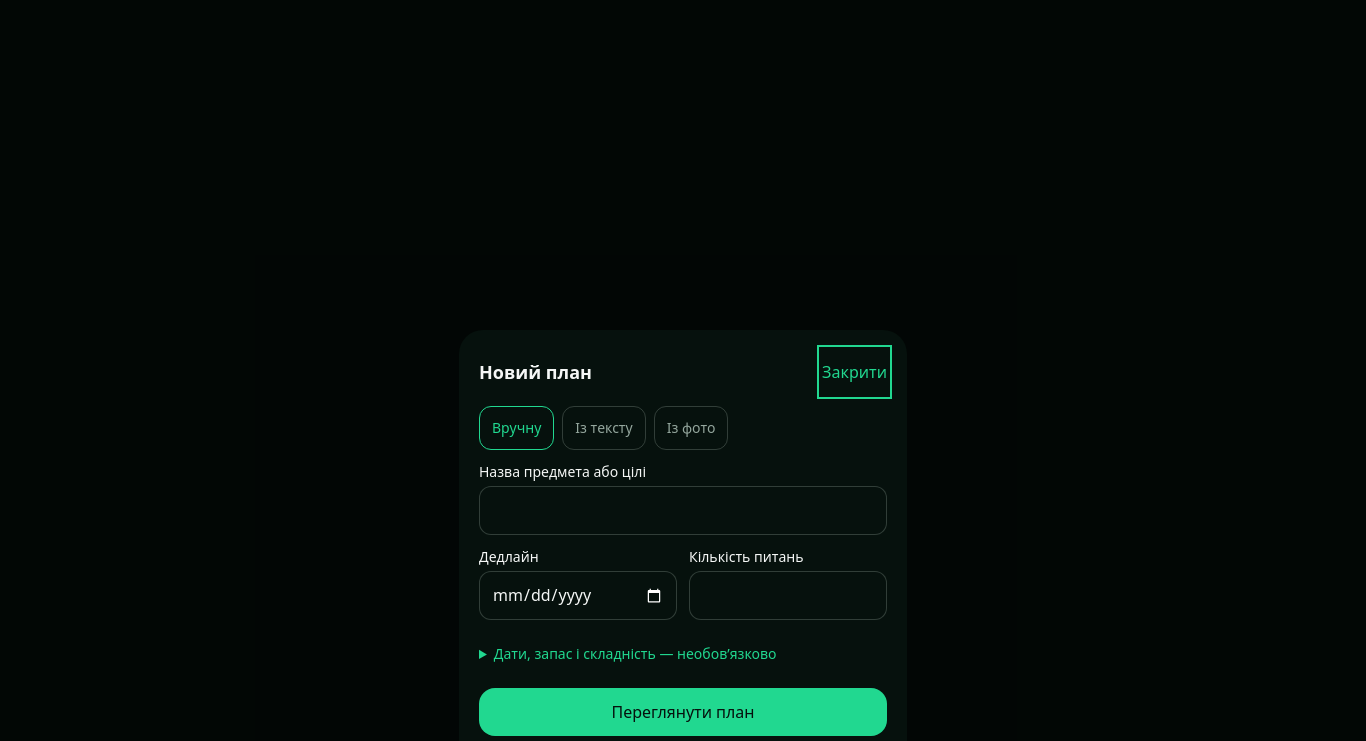
Test: requires review of ambiguous import data
Click the button "Із тексту".
click(604, 428)  # box [562, 406, 646, 450]
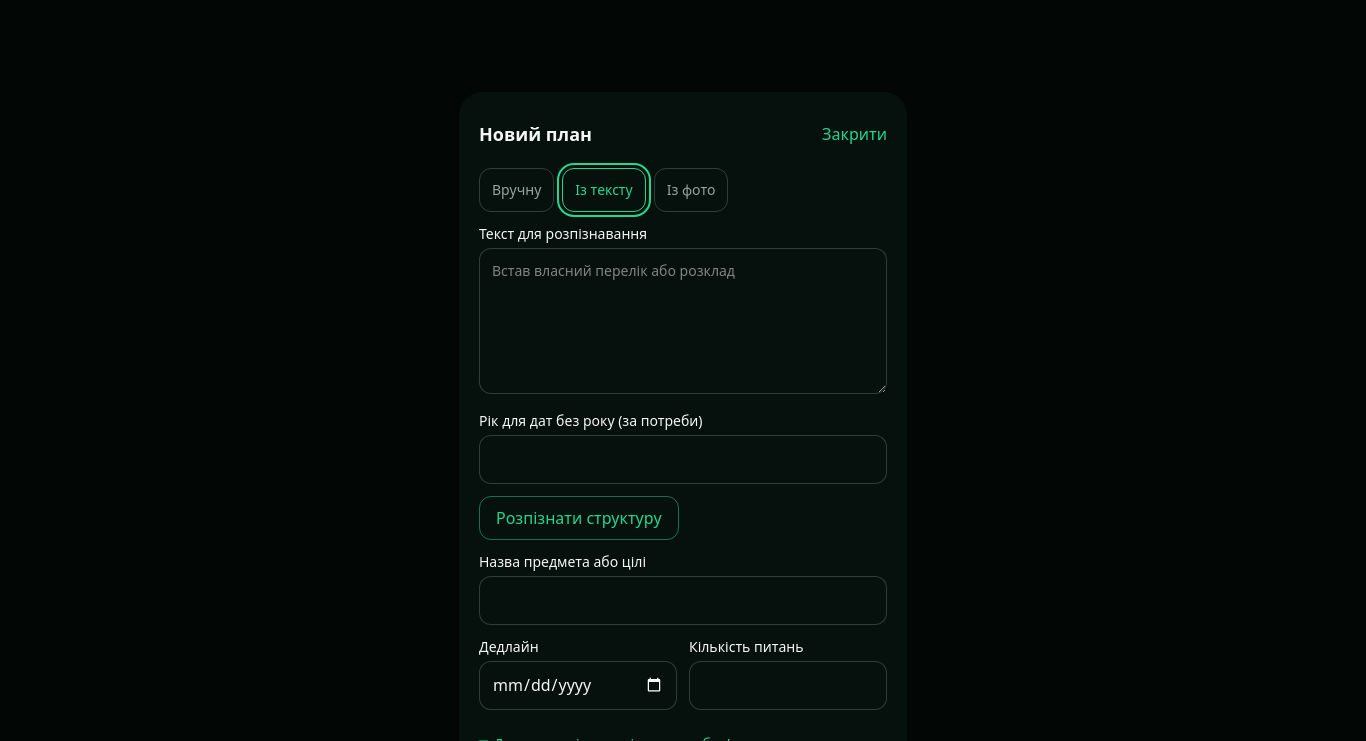
Type "1, 3" into the text box labelled "Текст для розпізнавання".
click(683, 321); type("1, 3")  # box [479, 248, 887, 394]
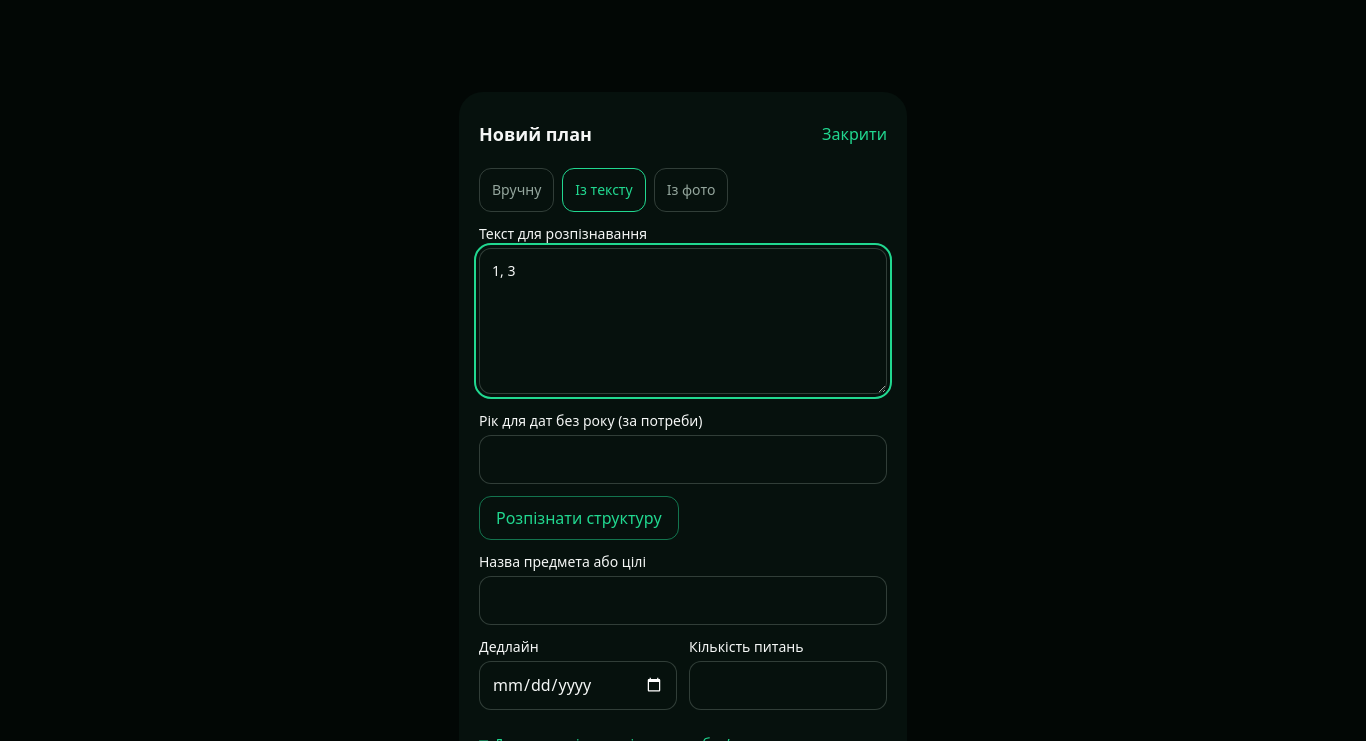
Click the button "Розпізнати структуру".
click(579, 518)  # box [479, 496, 679, 540]
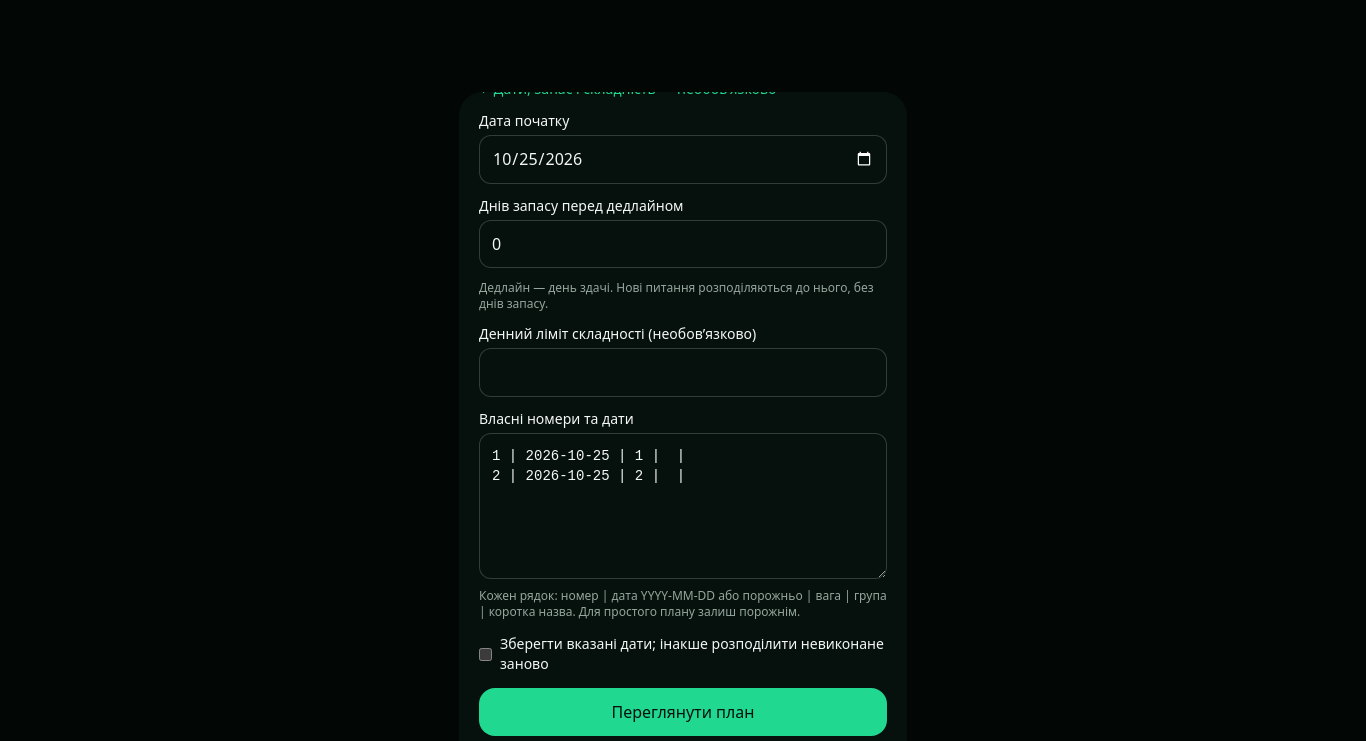
Click the button "Переглянути план".
click(683, 712)  # box [479, 688, 887, 736]
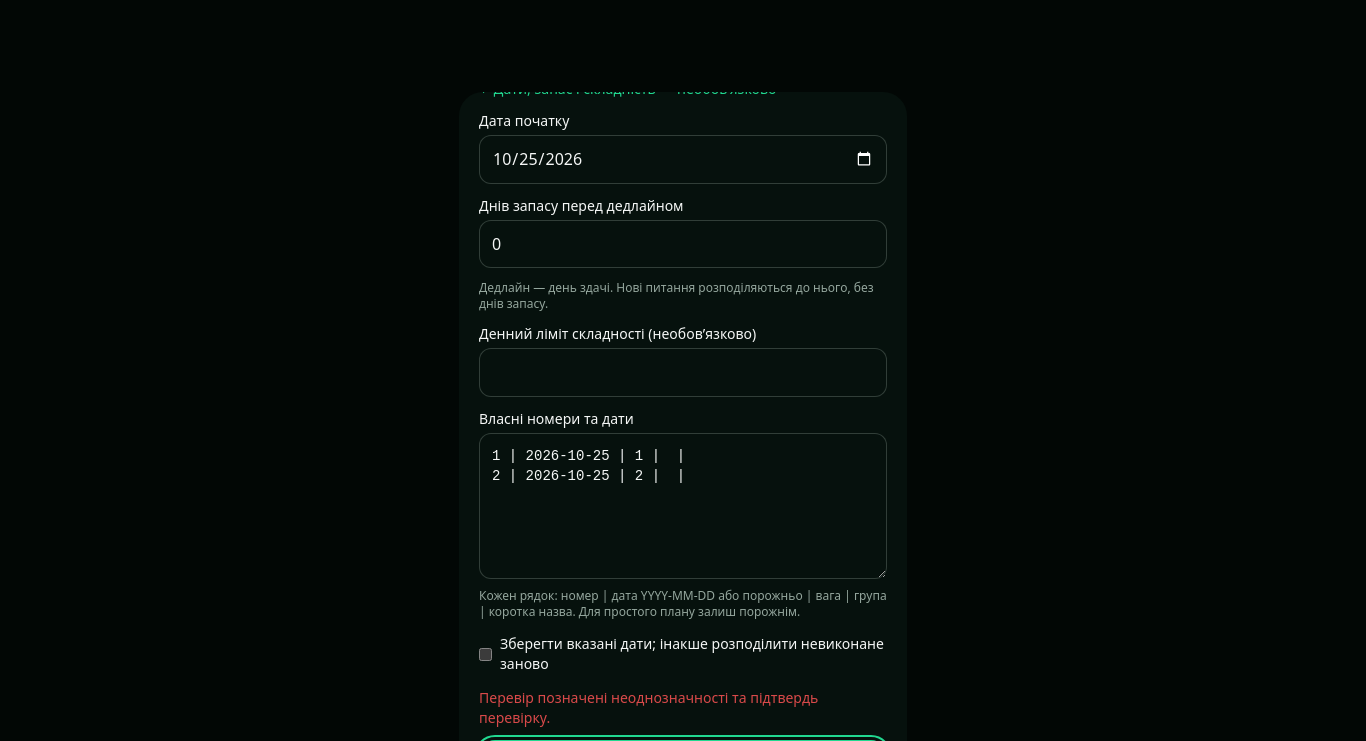
Now the message shows "Перевір позначені", box [479, 688, 818, 727]
